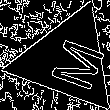M_W: (34, 29, 101, 91)
